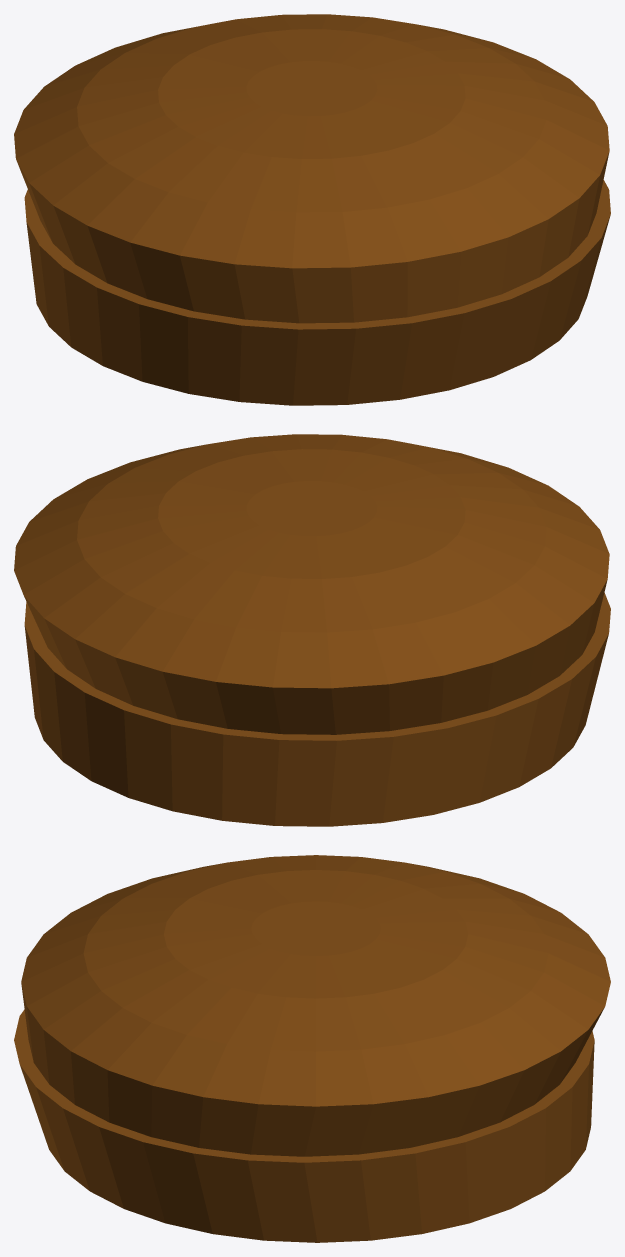
Rendered from Hat3.fbx.
The picture shows the model from 3 angles, top to bottom: view 1: azimuth 30°, elevation 25°; view 2: azimuth 150°, elevation 25°; view 3: azimuth 270°, elevation 25°; orthographic projection.
Parts seen in each view (by area): view 1: Hat3; view 2: Hat3; view 3: Hat3.
Boxes of the visible parts, x1,y1,x2,y2 form: Hat3: [14, 14, 610, 405]; Hat3: [14, 434, 610, 826]; Hat3: [14, 855, 610, 1242].
Size of the model in its own units: 107 by 40.45 by 108.
